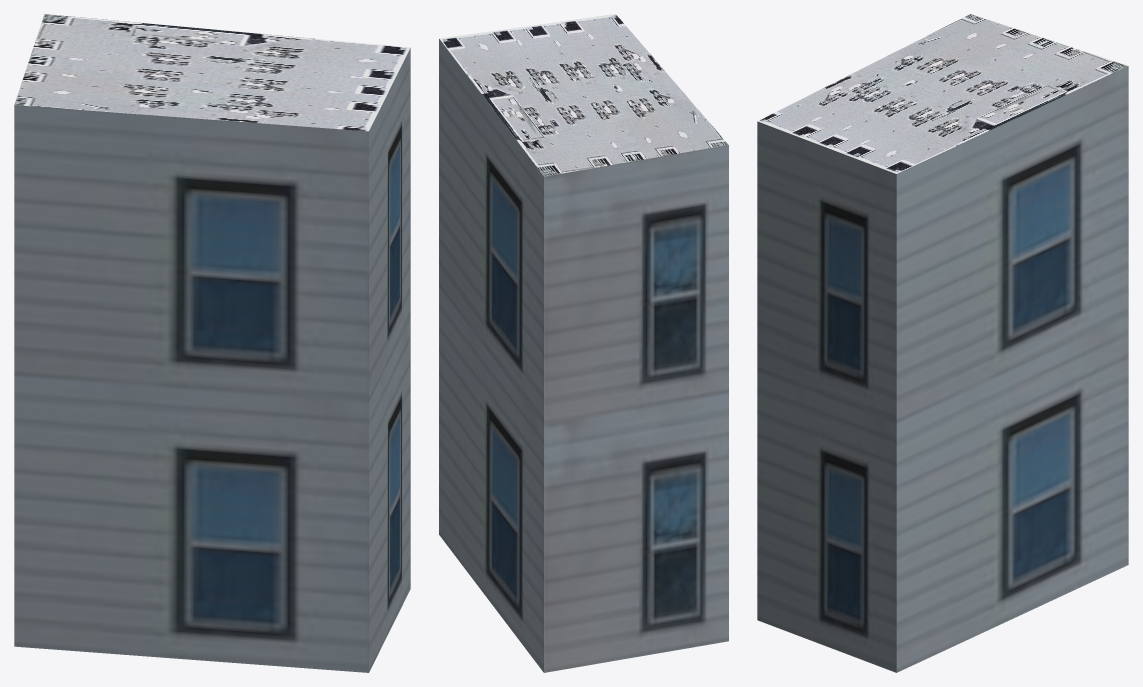
The model's file is ResTex__4969.fbx.
The picture shows the model from 3 angles, left to right: view 1: azimuth 30°, elevation 25°; view 2: azimuth 150°, elevation 25°; view 3: azimuth 270°, elevation 25°; orthographic projection. The views are drawn at different scales.
Visible parts, largest first — view 1: CityEngineMaterial_18_m, CityEngineMaterial_8_m; view 2: CityEngineMaterial_18_m, CityEngineMaterial_8_m; view 3: CityEngineMaterial_18_m, CityEngineMaterial_8_m.
Boxes of the visible parts, x1,y1,x2,y2 form: CityEngineMaterial_18_m: [14, 48, 410, 672]; CityEngineMaterial_8_m: [14, 14, 410, 131]; CityEngineMaterial_18_m: [439, 39, 728, 672]; CityEngineMaterial_8_m: [439, 14, 728, 176]; CityEngineMaterial_18_m: [757, 66, 1128, 672]; CityEngineMaterial_8_m: [758, 14, 1127, 173].
Size of the model in its own units: 4.13 by 6 by 4.05.
2 materials, 2 textured.
